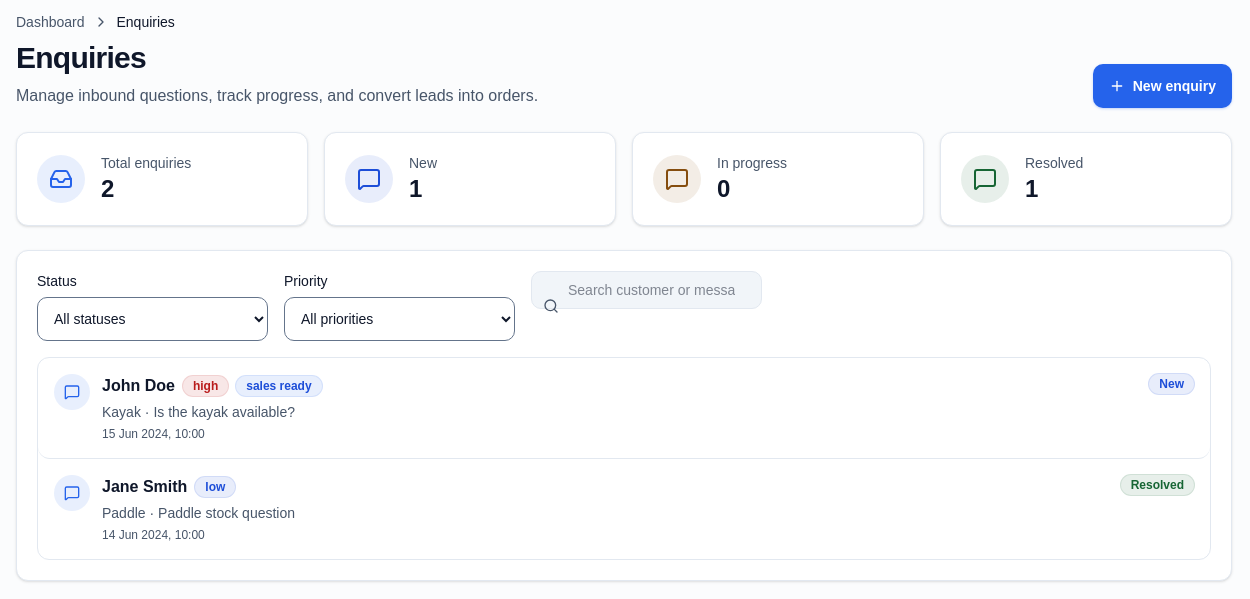
EnquiriesList › filters by priority
Select "High" in the dropdown labelled "Priority". click: (400, 319)
box: [284,297,515,341]
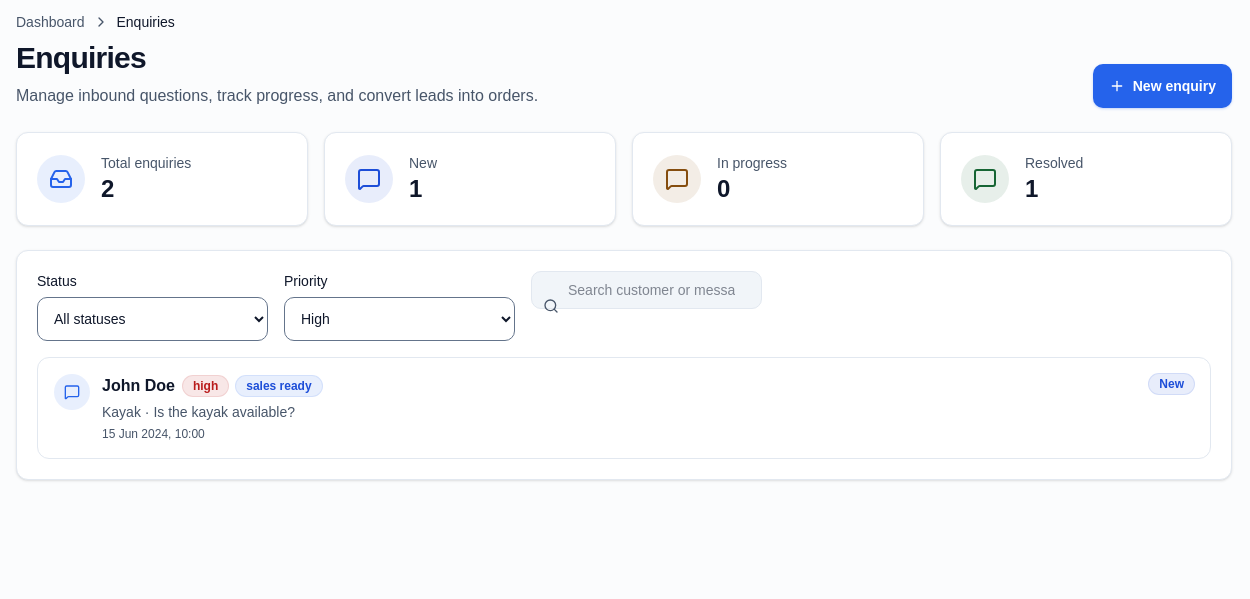
Expected: the text "Kayak · Is the kayak available?" is shown, [102,402,322,422]
Now the link "Paddle stock question" is gone
